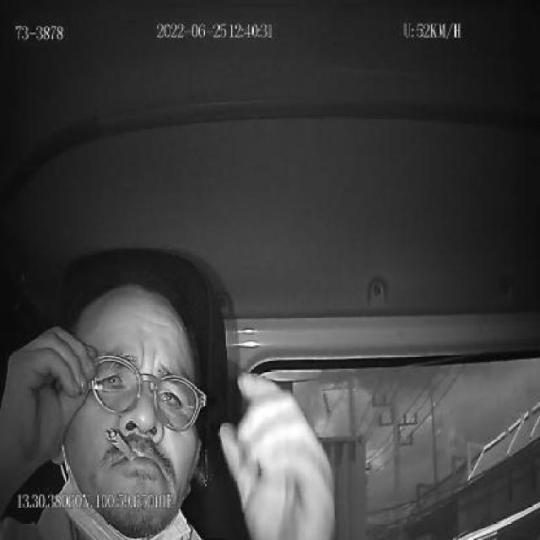smoking: (103, 425, 140, 460)
